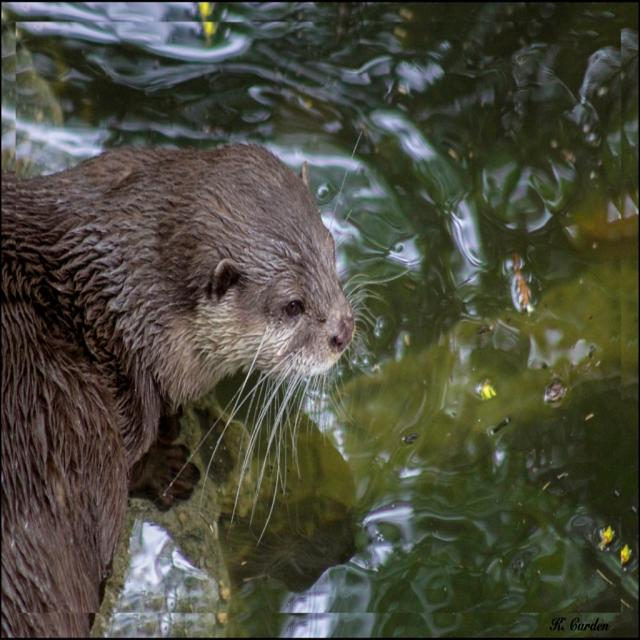otter: (1, 141, 354, 640)
